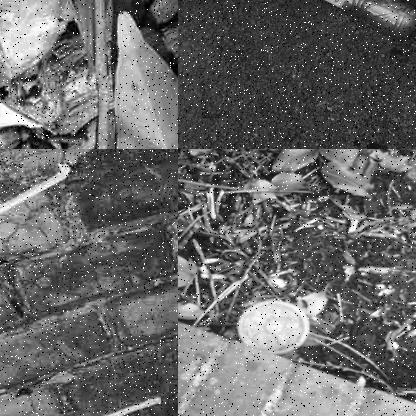plastic: (0, 161, 77, 269), (282, 0, 415, 48), (0, 0, 75, 77), (235, 296, 310, 353), (0, 391, 166, 415)
